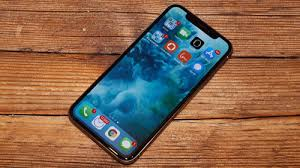iphone: (61, 5, 235, 162)
iphone10: (61, 6, 235, 163)
